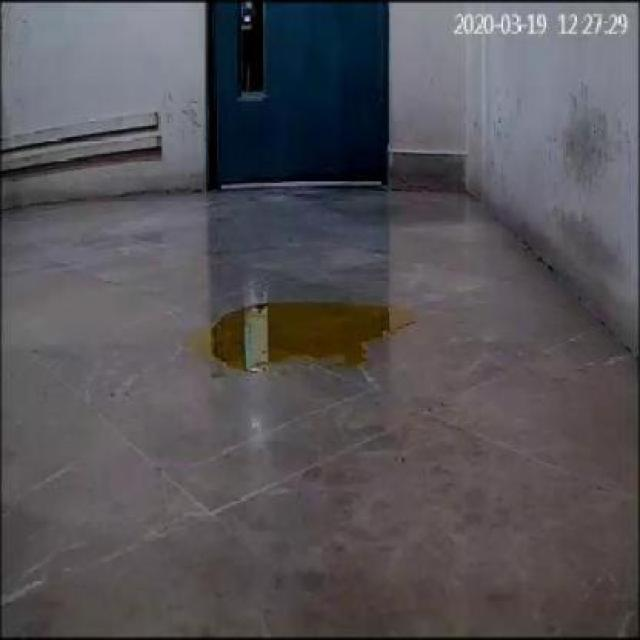spillage: (210, 302, 407, 373)
